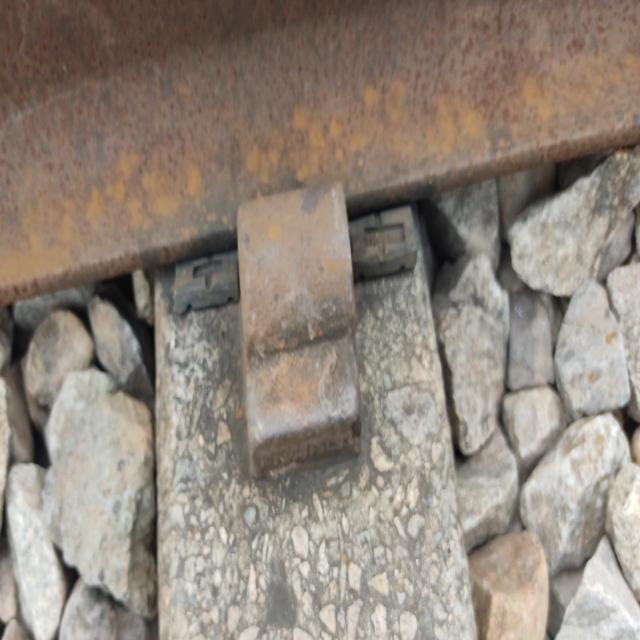track_bolt_missing: (233, 166, 358, 373)
